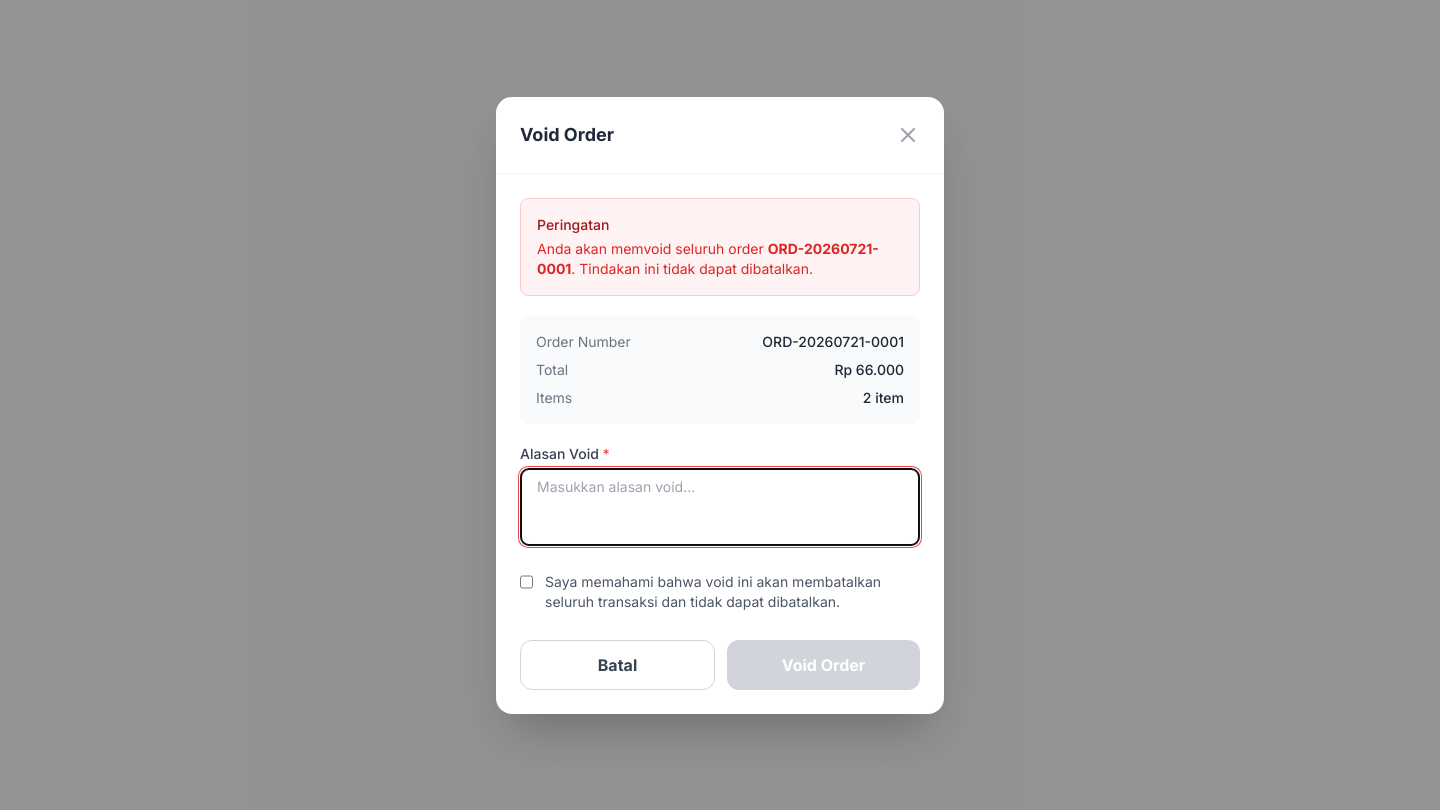
VoidOrderModal › enables submit after filling reason and checking confirmation
Type "Salah order" into the text box with placeholder "Masukkan alasan void...". click: (720, 506)
box: [520,468,920,546]
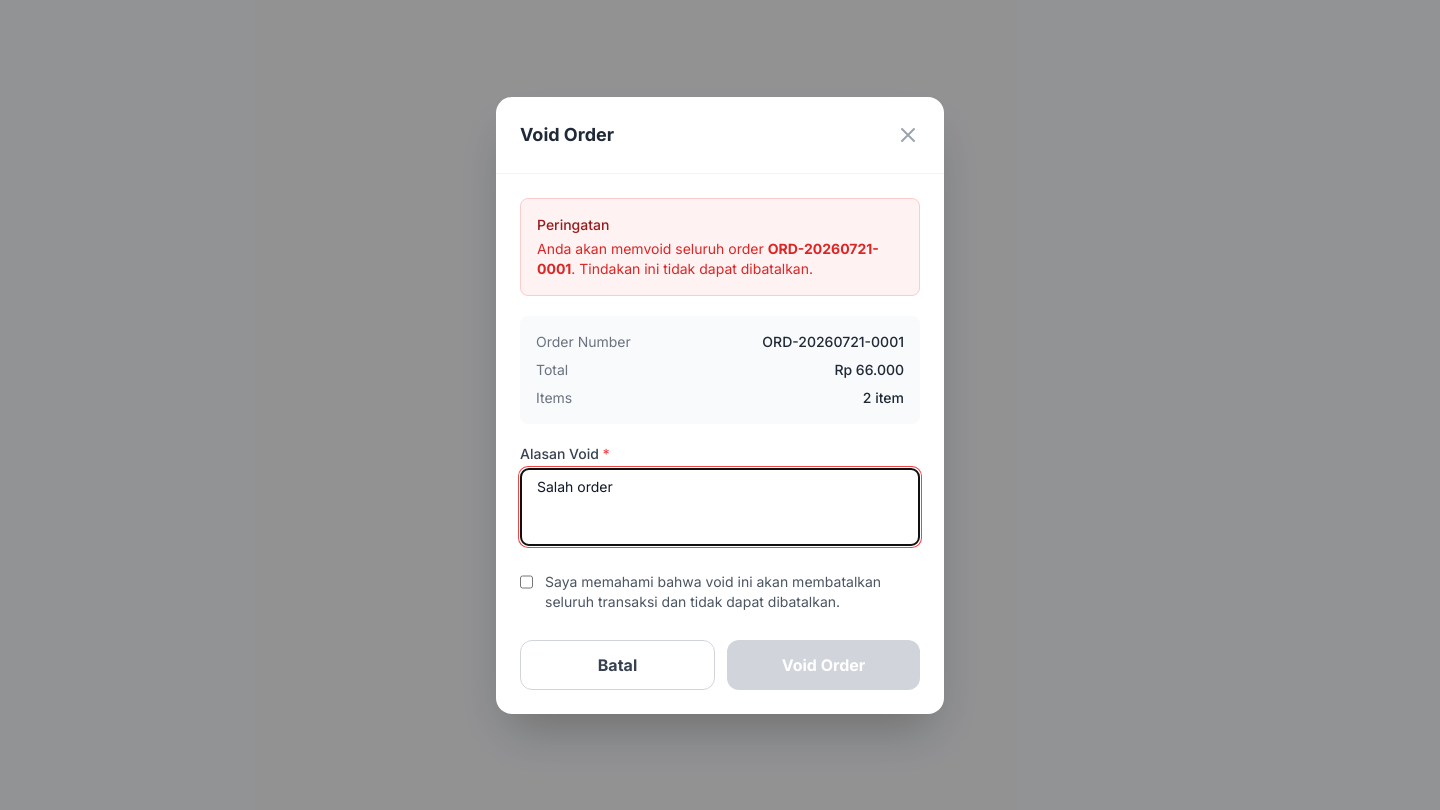
Click the checkbox. click: (526, 582)
box: [520,574,533,590]
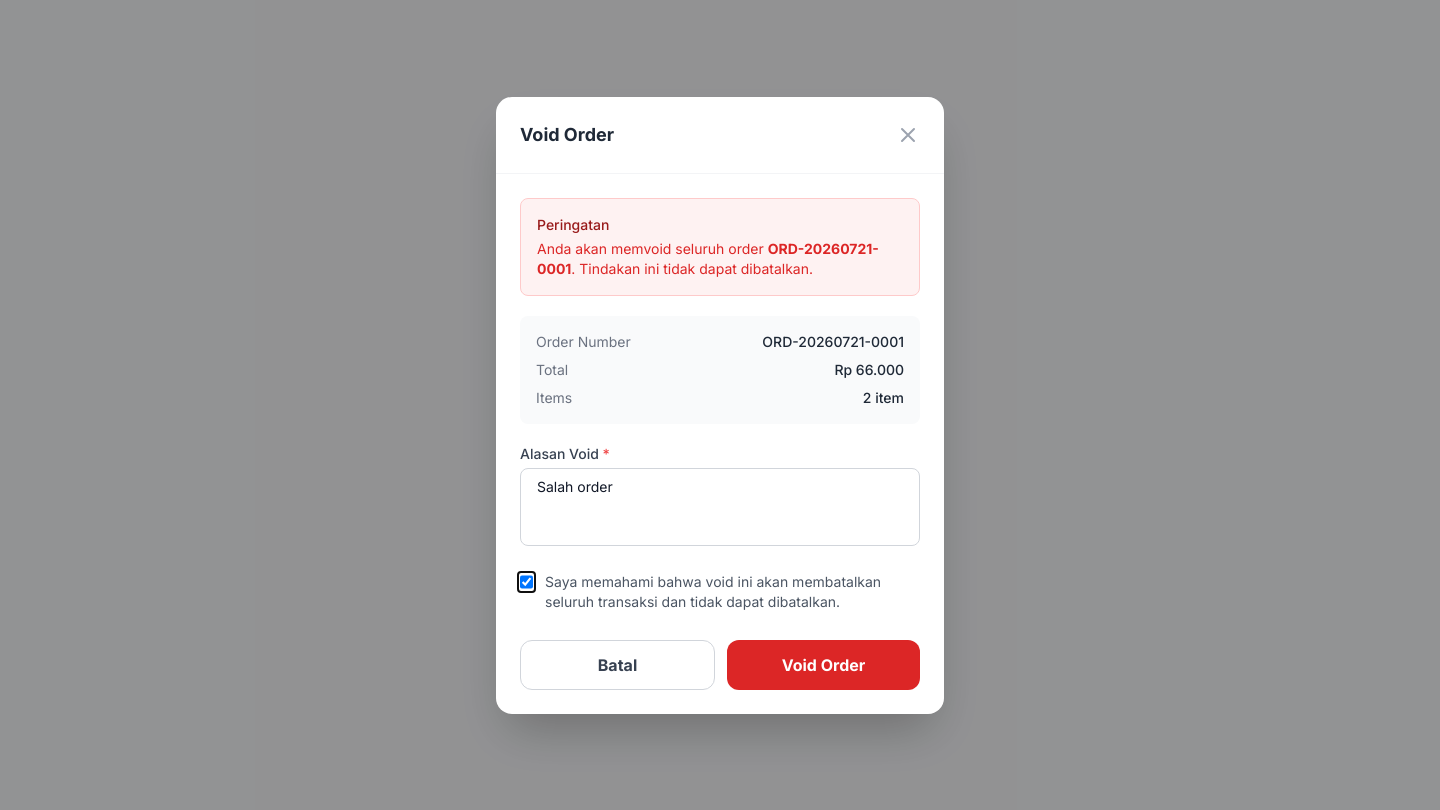
Check: the button "Void Order" is enabled, box [727,640,920,690]
